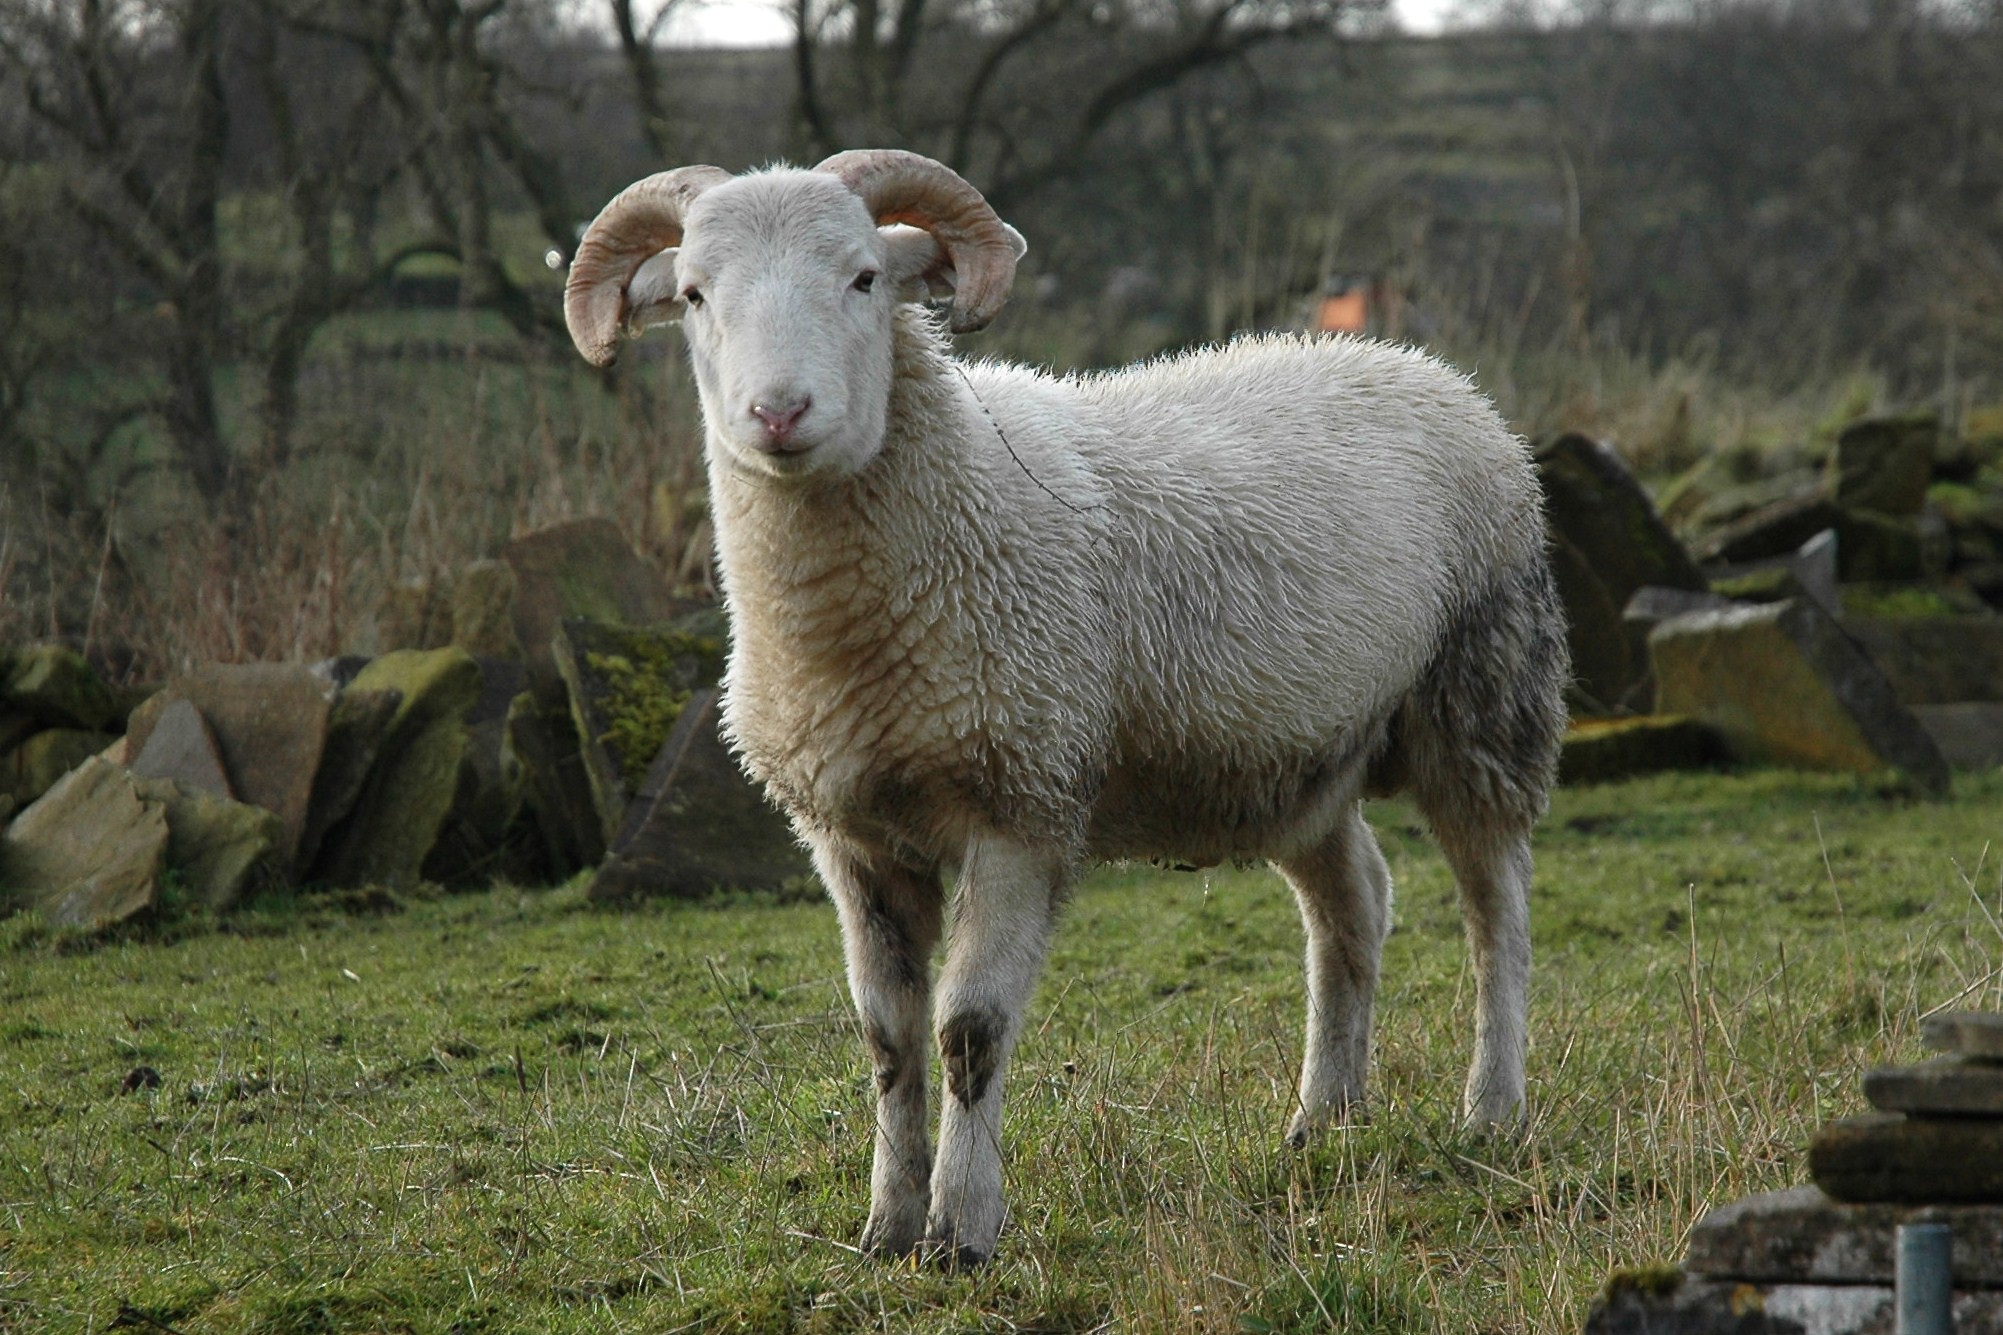sheep: (564, 146, 1620, 1259)
